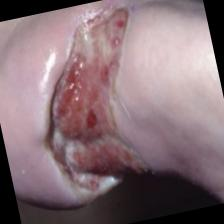wound-ulser: (11, 0, 166, 202)
